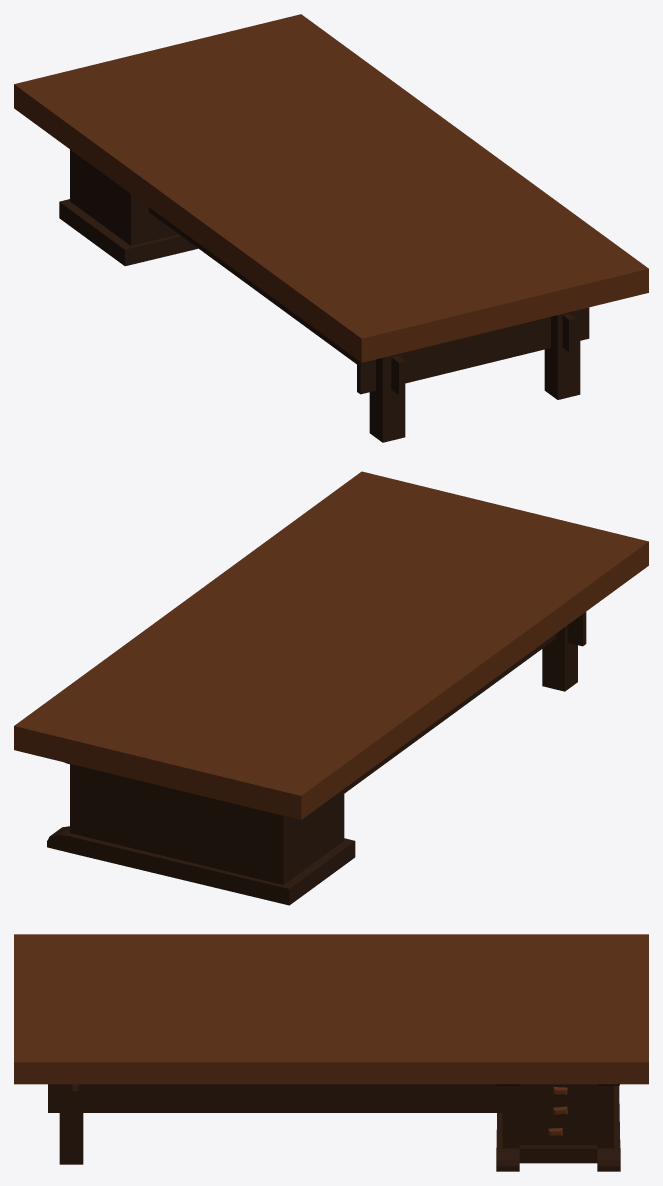
The model's file is WonkyTable.glb.
3 renders of one model, top to bottom at view 1: azimuth 30°, elevation 25°; view 2: azimuth 150°, elevation 25°; view 3: azimuth 270°, elevation 25°, orthographic. The views are drawn at different scales.
Visible parts, largest first — view 1: TableTop, TableDrawer, TableInnerCornerLeft, TableLegsLeftFront, TableLegsLeftBack, TableInnerSupportBeam; view 2: TableTop, TableDrawer, TableLegsLeftBack, TableInnerSupportBeam; view 3: TableTop, TableInnerSupportBeam2, TableDrawer, TableLegsLeftFront, TableDrawerFeetBottomLeft, TableDrawerFeetBottomRight.
Boxes of the visible parts, x1=… form: TableTop: x1=14, y1=14, x2=648, y2=362; TableDrawer: x1=59, y1=149, x2=197, y2=266; TableInnerCornerLeft: x1=357, y1=307, x2=589, y2=394; TableLegsLeftFront: x1=544, y1=309, x2=580, y2=399; TableLegsLeftBack: x1=369, y1=352, x2=405, y2=442; TableInnerSupportBeam: x1=148, y1=207, x2=405, y2=394; TableTop: x1=14, y1=471, x2=648, y2=819; TableDrawer: x1=66, y1=763, x2=355, y2=905; TableLegsLeftBack: x1=542, y1=625, x2=577, y2=691; TableInnerSupportBeam: x1=344, y1=633, x2=556, y2=793; TableTop: x1=14, y1=934, x2=648, y2=1084; TableInnerSupportBeam2: x1=48, y1=1084, x2=502, y2=1112; TableDrawer: x1=496, y1=1084, x2=620, y2=1163; TableLegsLeftFront: x1=59, y1=1084, x2=83, y2=1164; TableDrawerFeetBottomLeft: x1=496, y1=1148, x2=519, y2=1171; TableDrawerFeetBottomRight: x1=597, y1=1148, x2=620, y2=1171.
Bounding box in the file's own units: 2.33 × 1.04 × 4.89.
